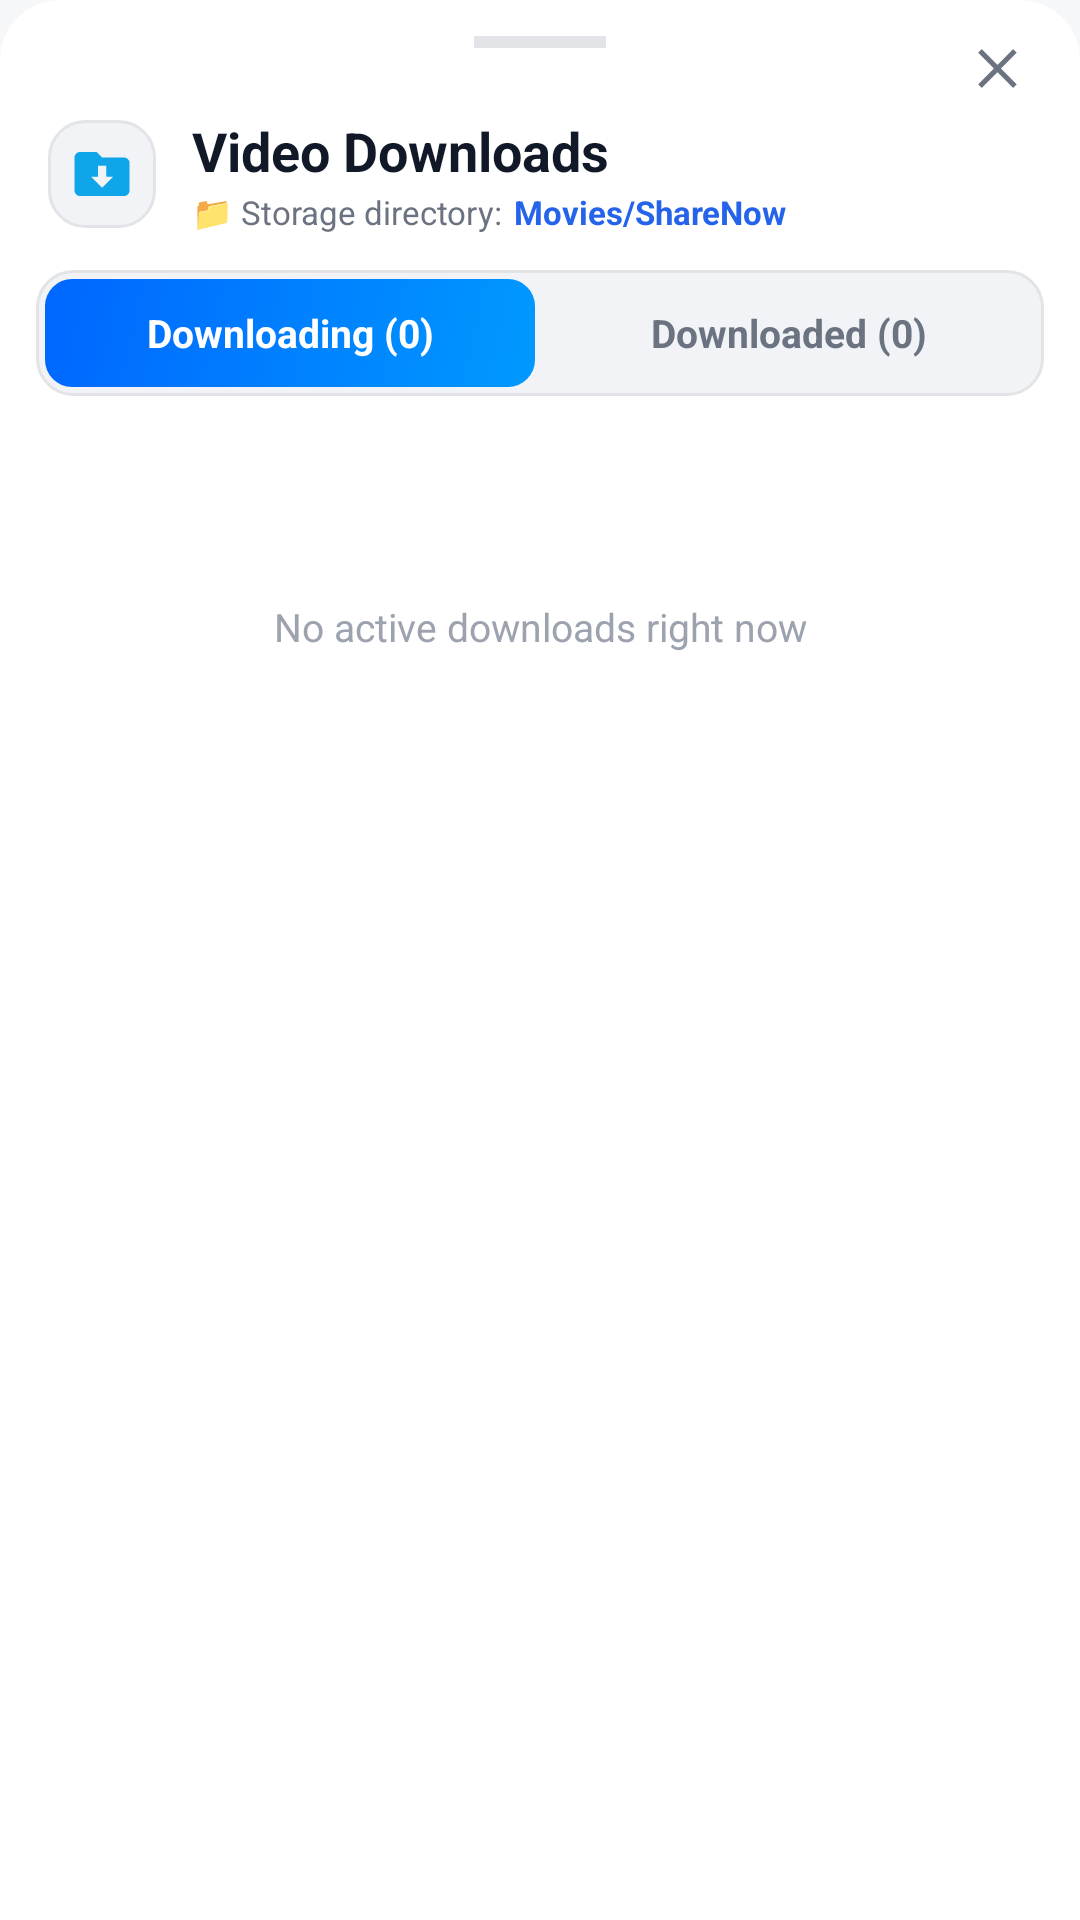

Icon click points for this 1080px x 1920px phone screenshot, format (x,y):
folder received: (102,174)
